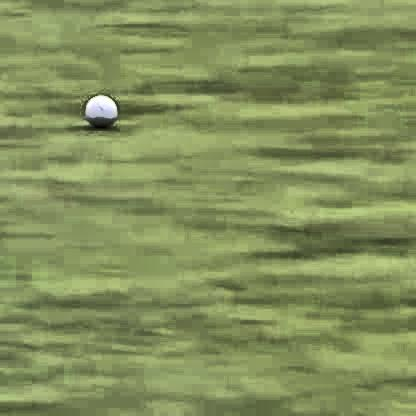golfball: (81, 90, 117, 126)
